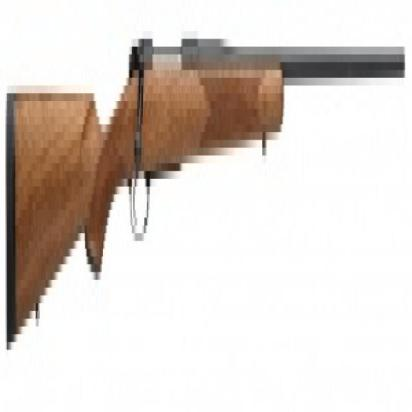Gun: (0, 6, 411, 412)
